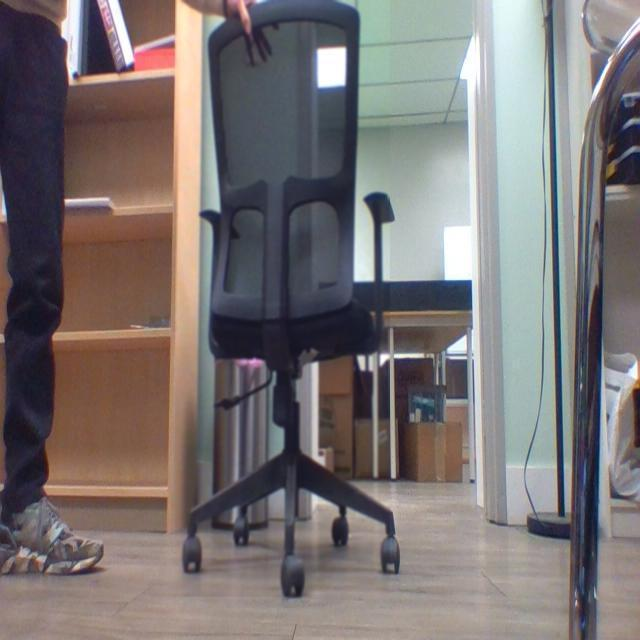chair: (174, 0, 411, 609)
